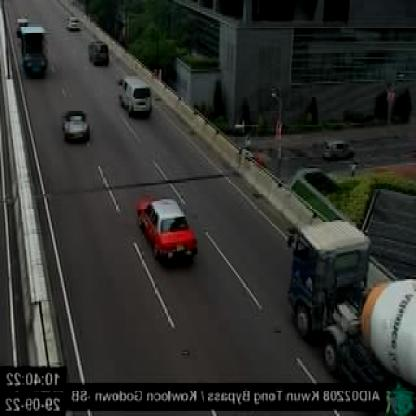Car: (134, 191, 201, 272), (113, 70, 156, 122), (55, 104, 95, 153), (86, 36, 116, 70), (321, 138, 359, 160), (62, 12, 86, 33), (13, 12, 31, 37)
Truck: (281, 204, 416, 412), (22, 19, 52, 80)
